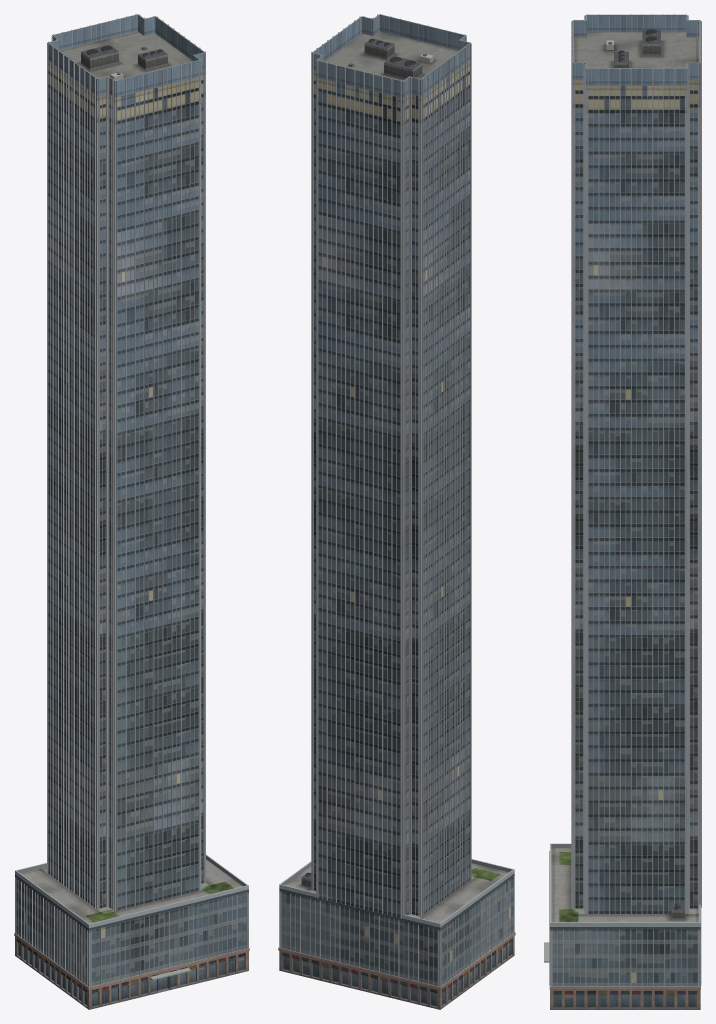
The model's file is nyc_glasstower_d.glb.
3 views of the same model, side by side, from view 1: azimuth 30°, elevation 25°; view 2: azimuth 150°, elevation 25°; view 3: azimuth 270°, elevation 25° (orthographic).
Visible parts, largest first — view 1: nyc_glasstower_d; view 2: nyc_glasstower_d; view 3: nyc_glasstower_d.
Part boxes in pixels (x1,y1,x2,y2): nyc_glasstower_d: (14, 14, 249, 1009); nyc_glasstower_d: (278, 14, 515, 1009); nyc_glasstower_d: (544, 14, 701, 1009).
Size of the model in its own units: 50.48 by 272 by 41.97.
Materials: 1 (1 with a texture image).
